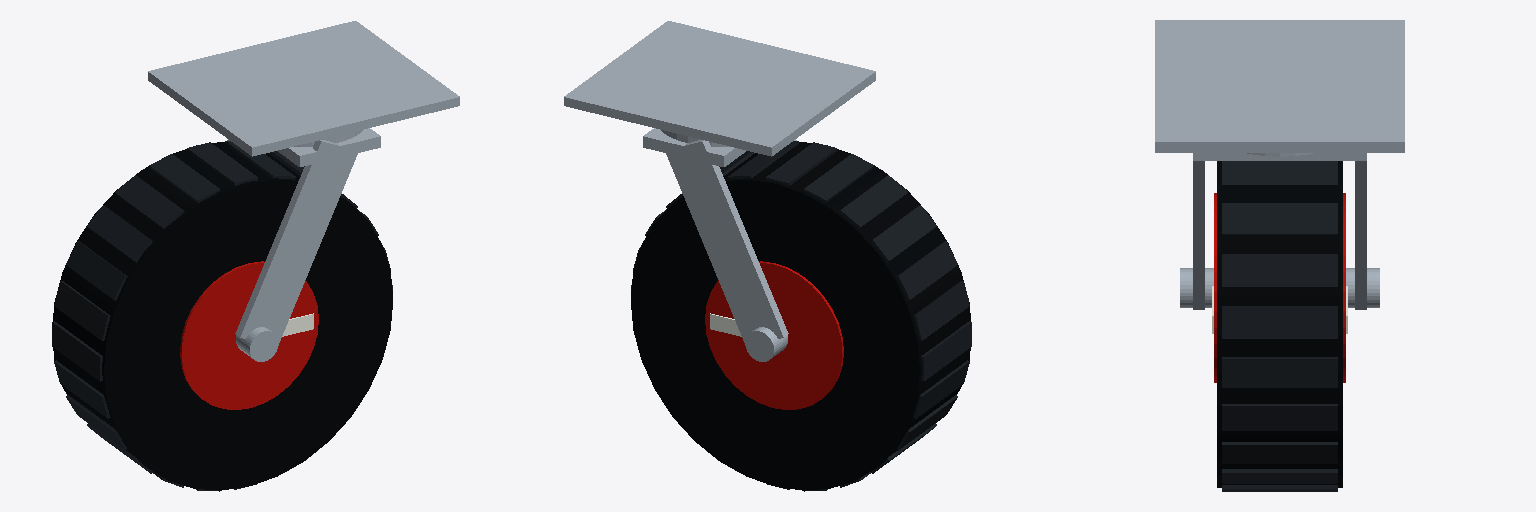
URDF robot description (powertec_17050_caster):
<?xml version="1.0" ?>
<!-- =================================================================================== -->
<!-- |    This document was autogenerated by xacro from hamr_swivel_caster/urdf/swivel_caster.urdf.xacro | -->
<!-- |    EDITING THIS FILE BY HAND IS NOT RECOMMENDED                                 | -->
<!-- =================================================================================== -->
<robot name="powertec_17050_caster">
  <link name="mount_frame"/>
  <link name="caster_mount_link">
    <inertial>
      <mass value="0.7"/>
      <origin rpy="0 0 0" xyz="0 0 -0.00938125"/>
      <inertia ixx="0.0006038684986979168" ixy="0" ixz="0" iyy="0.0007919934986979166" iyz="0" izz="0.0013547916666666667"/>
    </inertial>
    <visual name="mount_plate">
      <origin xyz="0 0 -0.00238125"/>
      <geometry>
        <box size="0.115 0.1 0.0047625"/>
      </geometry>
      <material name="caster_steel">
        <color rgba="0.68 0.72 0.76 1"/>
      </material>
    </visual>
    <collision name="mount_plate">
      <origin xyz="0 0 -0.00238125"/>
      <geometry>
        <box size="0.115 0.1 0.0047625"/>
      </geometry>
    </collision>
    <visual name="swivel_bearing">
      <origin xyz="0 0 -0.0117625"/>
      <geometry>
        <cylinder length="0.014" radius="0.031"/>
      </geometry>
      <material name="caster_steel"/>
    </visual>
    <collision name="swivel_bearing">
      <origin xyz="0 0 -0.0117625"/>
      <geometry>
        <cylinder length="0.014" radius="0.031"/>
      </geometry>
    </collision>
  </link>
  <joint name="caster_mount_joint" type="fixed">
    <parent link="mount_frame"/>
    <child link="caster_mount_link"/>
    <origin rpy="0 0 0" xyz="0 0 0"/>
  </joint>
  <link name="caster_fork_link">
    <inertial>
      <mass value="0.59"/>
      <origin rpy="0 0 0" xyz="-0.0225 0 -0.04661875"/>
      <inertia ixx="0.0006650753873697916" ixy="0" ixz="0" iyy="0.0006547638774739583" iyz="0" izz="0.00046500484322916665"/>
    </inertial>
    <visual name="fork_bridge">
      <origin xyz="0 0 -0.003"/>
      <geometry>
        <box size="0.045 0.069525 0.006"/>
      </geometry>
      <material name="caster_steel"/>
    </visual>
    <collision name="fork_bridge">
      <origin xyz="0 0 -0.003"/>
      <geometry>
        <box size="0.045 0.069525 0.006"/>
      </geometry>
    </collision>
    <visual name="fork_leg_-1">
      <origin rpy="0 0.44966212927682847 0" xyz="-0.0225 -0.03238125 -0.04661875"/>
      <geometry>
        <box size="0.023 0.0047625 0.10352889164986748"/>
      </geometry>
      <material name="caster_steel"/>
    </visual>
    <collision name="fork_leg_-1">
      <origin rpy="0 0.44966212927682847 0" xyz="-0.0225 -0.03238125 -0.04661875"/>
      <geometry>
        <box size="0.023 0.0047625 0.10352889164986748"/>
      </geometry>
    </collision>
    <visual name="fork_leg_1">
      <origin rpy="0 0.44966212927682847 0" xyz="-0.0225 0.03238125 -0.04661875"/>
      <geometry>
        <box size="0.023 0.0047625 0.10352889164986748"/>
      </geometry>
      <material name="caster_steel"/>
    </visual>
    <collision name="fork_leg_1">
      <origin rpy="0 0.44966212927682847 0" xyz="-0.0225 0.03238125 -0.04661875"/>
      <geometry>
        <box size="0.023 0.0047625 0.10352889164986748"/>
      </geometry>
    </collision>
    <visual name="axle">
      <origin rpy="1.5707963267948966 0 0" xyz="-0.045 0 -0.0932375"/>
      <geometry>
        <cylinder length="0.0797625" radius="0.008"/>
      </geometry>
      <material name="caster_steel"/>
    </visual>
  </link>
  <joint name="caster_swivel_joint" type="continuous">
    <parent link="caster_mount_link"/>
    <child link="caster_fork_link"/>
    <origin rpy="0 0 0.0" xyz="0 0 -0.0187625"/>
    <axis xyz="0 0 1"/>
    <dynamics damping="0.015" friction="0.0"/>
  </joint>
  <link name="caster_wheel_link">
    <inertial>
      <mass value="1.35"/>
      <origin rpy="1.5707963267948966 0 0" xyz="0 0 0"/>
      <inertia ixx="0.00244125" ixy="0" ixz="0" iyy="0.00244125" iyz="0" izz="0.004320000000000001"/>
    </inertial>
    <visual name="rubber_tire">
      <origin rpy="1.5707963267948966 0 0"/>
      <geometry>
        <cylinder length="0.05" radius="0.08"/>
      </geometry>
      <material name="caster_rubber">
        <color rgba="0.055 0.065 0.075 1"/>
      </material>
    </visual>
    <!-- Leave the tire collision unnamed: SDFormat URDF conversion then applies the link friction extension. -->
    <collision>
      <origin rpy="1.5707963267948966 0 0"/>
      <geometry>
        <cylinder length="0.05" radius="0.08"/>
      </geometry>
    </collision>
    <visual name="hub">
      <origin rpy="1.5707963267948966 0 0"/>
      <geometry>
        <cylinder length="0.053000000000000005" radius="0.038"/>
      </geometry>
      <material name="caster_hub">
        <color rgba="0.76 0.10 0.07 1"/>
      </material>
    </visual>
    <!-- A rim marker and simplified knobby tread make actual rolling visible;
           only the smooth envelope above participates in collision dynamics. -->
    <visual name="outer_rim_marker">
      <origin xyz="0.021 -0.0268 0"/>
      <geometry>
        <box size="0.028 0.001 0.008"/>
      </geometry>
      <material name="caster_rim_marker">
        <color rgba="0.95 0.96 0.92 1"/>
      </material>
    </visual>
    <visual name="inner_rim_marker">
      <origin xyz="0.021 0.0268 0"/>
      <geometry>
        <box size="0.028 0.001 0.008"/>
      </geometry>
      <material name="caster_rim_marker"/>
    </visual>
    <visual name="tread_0">
      <origin rpy="0 0.0 0" xyz="0.0 0 0.0795"/>
      <geometry>
        <box size="0.013 0.046000000000000006 0.003"/>
      </geometry>
      <material name="caster_tread">
        <color rgba="0.14 0.16 0.18 1"/>
      </material>
    </visual>
    <visual name="tread_1">
      <origin rpy="0 0.2617993877991494 0" xyz="0.0205761140856504 0 0.07679110318998093"/>
      <geometry>
        <box size="0.013 0.046000000000000006 0.003"/>
      </geometry>
      <material name="caster_tread">
        <color rgba="0.14 0.16 0.18 1"/>
      </material>
    </visual>
    <visual name="tread_2">
      <origin rpy="0 0.5235987755982988 0" xyz="0.039749999999999994 0 0.06884901960086288"/>
      <geometry>
        <box size="0.013 0.046000000000000006 0.003"/>
      </geometry>
      <material name="caster_tread">
        <color rgba="0.14 0.16 0.18 1"/>
      </material>
    </visual>
    <visual name="tread_3">
      <origin rpy="0 0.7853981633974483 0" xyz="0.05621498910433052 0 0.05621498910433053"/>
      <geometry>
        <box size="0.013 0.046000000000000006 0.003"/>
      </geometry>
      <material name="caster_tread">
        <color rgba="0.14 0.16 0.18 1"/>
      </material>
    </visual>
    <visual name="tread_4">
      <origin rpy="0 1.0471975511965976 0" xyz="0.06884901960086287 0 0.03975000000000001"/>
      <geometry>
        <box size="0.013 0.046000000000000006 0.003"/>
      </geometry>
      <material name="caster_tread">
        <color rgba="0.14 0.16 0.18 1"/>
      </material>
    </visual>
    <visual name="tread_5">
      <origin rpy="0 1.3089969389957472 0" xyz="0.07679110318998093 0 0.0205761140856504"/>
      <geometry>
        <box size="0.013 0.046000000000000006 0.003"/>
      </geometry>
      <material name="caster_tread">
        <color rgba="0.14 0.16 0.18 1"/>
      </material>
    </visual>
    <visual name="tread_6">
      <origin rpy="0 1.5707963267948966 0" xyz="0.0795 0 4.867971026610729e-18"/>
      <geometry>
        <box size="0.013 0.046000000000000006 0.003"/>
      </geometry>
      <material name="caster_tread">
        <color rgba="0.14 0.16 0.18 1"/>
      </material>
    </visual>
    <visual name="tread_7">
      <origin rpy="0 1.832595714594046 0" xyz="0.07679110318998093 0 -0.02057611408565039"/>
      <geometry>
        <box size="0.013 0.046000000000000006 0.003"/>
      </geometry>
      <material name="caster_tread">
        <color rgba="0.14 0.16 0.18 1"/>
      </material>
    </visual>
    <visual name="tread_8">
      <origin rpy="0 2.0943951023931953 0" xyz="0.06884901960086288 0 -0.03974999999999998"/>
      <geometry>
        <box size="0.013 0.046000000000000006 0.003"/>
      </geometry>
      <material name="caster_tread">
        <color rgba="0.14 0.16 0.18 1"/>
      </material>
    </visual>
    <visual name="tread_9">
      <origin rpy="0 2.356194490192345 0" xyz="0.05621498910433053 0 -0.05621498910433052"/>
      <geometry>
        <box size="0.013 0.046000000000000006 0.003"/>
      </geometry>
      <material name="caster_tread">
        <color rgba="0.14 0.16 0.18 1"/>
      </material>
    </visual>
    <visual name="tread_10">
      <origin rpy="0 2.6179938779914944 0" xyz="0.039749999999999994 0 -0.06884901960086288"/>
      <geometry>
        <box size="0.013 0.046000000000000006 0.003"/>
      </geometry>
      <material name="caster_tread">
        <color rgba="0.14 0.16 0.18 1"/>
      </material>
    </visual>
    <visual name="tread_11">
      <origin rpy="0 2.8797932657906435 0" xyz="0.02057611408565042 0 -0.07679110318998092"/>
      <geometry>
        <box size="0.013 0.046000000000000006 0.003"/>
      </geometry>
      <material name="caster_tread">
        <color rgba="0.14 0.16 0.18 1"/>
      </material>
    </visual>
    <visual name="tread_12">
      <origin rpy="0 3.141592653589793 0" xyz="9.735942053221458e-18 0 -0.0795"/>
      <geometry>
        <box size="0.013 0.046000000000000006 0.003"/>
      </geometry>
      <material name="caster_tread">
        <color rgba="0.14 0.16 0.18 1"/>
      </material>
    </visual>
    <visual name="tread_13">
      <origin rpy="0 3.4033920413889427 0" xyz="-0.020576114085650403 0 -0.07679110318998093"/>
      <geometry>
        <box size="0.013 0.046000000000000006 0.003"/>
      </geometry>
      <material name="caster_tread">
        <color rgba="0.14 0.16 0.18 1"/>
      </material>
    </visual>
    <visual name="tread_14">
      <origin rpy="0 3.665191429188092 0" xyz="-0.03974999999999998 0 -0.06884901960086288"/>
      <geometry>
        <box size="0.013 0.046000000000000006 0.003"/>
      </geometry>
      <material name="caster_tread">
        <color rgba="0.14 0.16 0.18 1"/>
      </material>
    </visual>
    <visual name="tread_15">
      <origin rpy="0 3.926990816987241 0" xyz="-0.056214989104330496 0 -0.05621498910433056"/>
      <geometry>
        <box size="0.013 0.046000000000000006 0.003"/>
      </geometry>
      <material name="caster_tread">
        <color rgba="0.14 0.16 0.18 1"/>
      </material>
    </visual>
    <visual name="tread_16">
      <origin rpy="0 4.1887902047863905 0" xyz="-0.06884901960086286 0 -0.039750000000000035"/>
      <geometry>
        <box size="0.013 0.046000000000000006 0.003"/>
      </geometry>
      <material name="caster_tread">
        <color rgba="0.14 0.16 0.18 1"/>
      </material>
    </visual>
    <visual name="tread_17">
      <origin rpy="0 4.4505895925855405 0" xyz="-0.07679110318998093 0 -0.02057611408565039"/>
      <geometry>
        <box size="0.013 0.046000000000000006 0.003"/>
      </geometry>
      <material name="caster_tread">
        <color rgba="0.14 0.16 0.18 1"/>
      </material>
    </visual>
    <visual name="tread_18">
      <origin rpy="0 4.71238898038469 0" xyz="-0.0795 0 -1.4603913079832185e-17"/>
      <geometry>
        <box size="0.013 0.046000000000000006 0.003"/>
      </geometry>
      <material name="caster_tread">
        <color rgba="0.14 0.16 0.18 1"/>
      </material>
    </visual>
    <visual name="tread_19">
      <origin rpy="0 4.974188368183839 0" xyz="-0.07679110318998095 0 0.020576114085650365"/>
      <geometry>
        <box size="0.013 0.046000000000000006 0.003"/>
      </geometry>
      <material name="caster_tread">
        <color rgba="0.14 0.16 0.18 1"/>
      </material>
    </visual>
    <visual name="tread_20">
      <origin rpy="0 5.235987755982989 0" xyz="-0.06884901960086287 0 0.03975000000000001"/>
      <geometry>
        <box size="0.013 0.046000000000000006 0.003"/>
      </geometry>
      <material name="caster_tread">
        <color rgba="0.14 0.16 0.18 1"/>
      </material>
    </visual>
    <visual name="tread_21">
      <origin rpy="0 5.497787143782138 0" xyz="-0.056214989104330544 0 0.056214989104330516"/>
      <geometry>
        <box size="0.013 0.046000000000000006 0.003"/>
      </geometry>
      <material name="caster_tread">
        <color rgba="0.14 0.16 0.18 1"/>
      </material>
    </visual>
    <visual name="tread_22">
      <origin rpy="0 5.759586531581287 0" xyz="-0.039750000000000035 0 0.06884901960086286"/>
      <geometry>
        <box size="0.013 0.046000000000000006 0.003"/>
      </geometry>
      <material name="caster_tread">
        <color rgba="0.14 0.16 0.18 1"/>
      </material>
    </visual>
    <visual name="tread_23">
      <origin rpy="0 6.021385919380436 0" xyz="-0.020576114085650465 0 0.07679110318998092"/>
      <geometry>
        <box size="0.013 0.046000000000000006 0.003"/>
      </geometry>
      <material name="caster_tread">
        <color rgba="0.14 0.16 0.18 1"/>
      </material>
    </visual>
  </link>
  <joint name="caster_wheel_joint" type="continuous">
    <parent link="caster_fork_link"/>
    <child link="caster_wheel_link"/>
    <origin xyz="-0.045 0 -0.0932375"/>
    <axis xyz="0 1 0"/>
    <dynamics damping="0.006" friction="0.0"/>
  </joint>
  <gazebo reference="caster_wheel_link">
    <mu1>0.9</mu1>
    <mu2>0.9</mu2>
  </gazebo>
</robot>

--- Render facts (derived) ---
3 views of the same robot in one strip: view 1: azimuth 30°, elevation 25°; view 2: azimuth 150°, elevation 25°; view 3: azimuth 270°, elevation 25° (orthographic).
Model powertec_17050_caster with 4 links and 3 joints (2 continuous, 1 fixed), rooted at mount_frame, posed every joint at zero.
Links seen in each view (by area): view 1: caster_wheel_link, caster_mount_link, caster_fork_link; view 2: caster_wheel_link, caster_mount_link, caster_fork_link; view 3: caster_wheel_link, caster_mount_link, caster_fork_link.
Boxes of the visible links, x1=… form: caster_wheel_link: x1=52, y1=141, x2=392, y2=491; caster_mount_link: x1=148, y1=21, x2=459, y2=156; caster_fork_link: x1=227, y1=128, x2=380, y2=361; caster_wheel_link: x1=631, y1=141, x2=971, y2=491; caster_mount_link: x1=564, y1=21, x2=875, y2=156; caster_fork_link: x1=643, y1=128, x2=796, y2=361; caster_wheel_link: x1=1212, y1=161, x2=1347, y2=491; caster_mount_link: x1=1155, y1=20, x2=1404, y2=156; caster_fork_link: x1=1180, y1=153, x2=1379, y2=309.
Size in the robot's own frame: 0.1835 by 0.1 by 0.193 metres.
Geometry: primitives only (box / cylinder / sphere), no mesh files.
